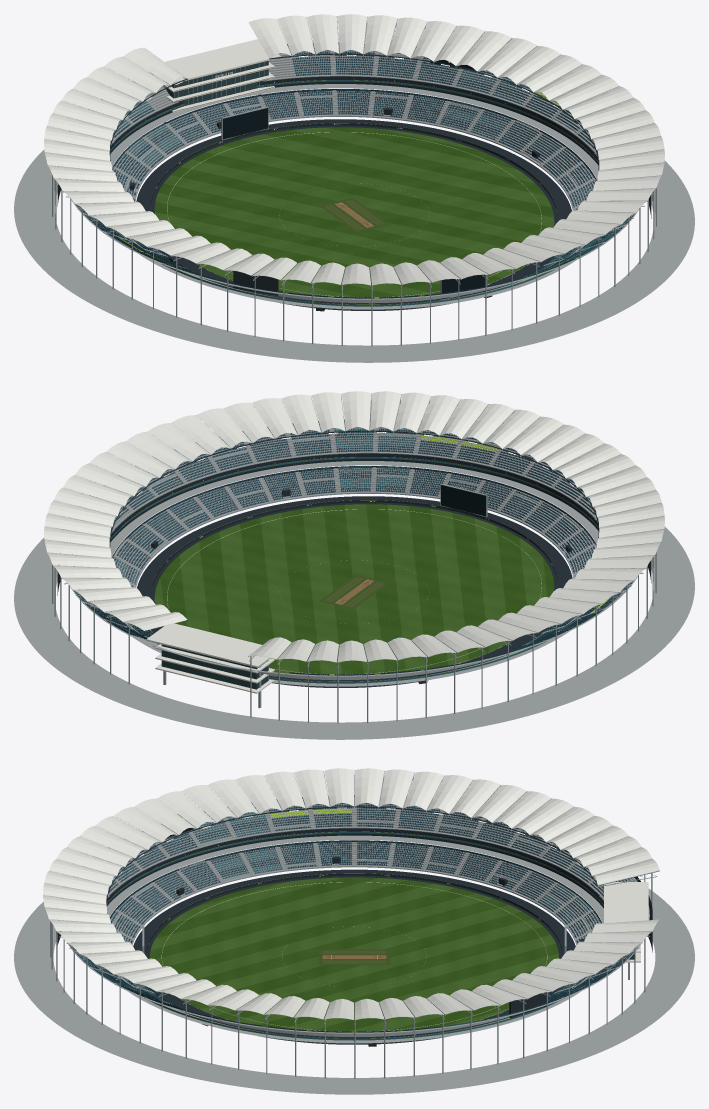
File: ant-oval-lite.glb
3 renders of one model, top to bottom at view 1: azimuth 30°, elevation 25°; view 2: azimuth 150°, elevation 25°; view 3: azimuth 270°, elevation 25°, orthographic. The views are drawn at different scales.
Parts seen in each view (by area): view 1: Lite | Canopy | pearl roof panels, Lite | Field | mown oval, Lite | Bowl | tier treads and risers, Lite | Site | perimeter plaza, Lite | Seats | navy, Lite | Boundary | service apron, Lite | Canopy | radial trusses and columns, Lite | Bowl | dark fascia and tunnel openings, Lite | Pavilion | floor slabs, Lite | Seats | blue, Lite | Canopy | underside panels, Lite | Bowl | inter-tier ribbon (+7 smaller); view 2: Lite | Canopy | pearl roof panels, Lite | Field | mown oval, Lite | Bowl | tier treads and risers, Lite | Site | perimeter plaza, Lite | Seats | navy, Lite | Boundary | service apron, Lite | Canopy | radial trusses and columns, Lite | Bowl | dark fascia and tunnel openings, Lite | Pavilion | floor slabs, Lite | Canopy | underside panels, Lite | Seats | blue, Lite | Bowl | inter-tier ribbon (+6 smaller); view 3: Lite | Canopy | pearl roof panels, Lite | Field | mown oval, Lite | Bowl | tier treads and risers, Lite | Site | perimeter plaza, Lite | Seats | navy, Lite | Boundary | service apron, Lite | Canopy | radial trusses and columns, Lite | Bowl | dark fascia and tunnel openings, Lite | Seats | blue, Lite | Bowl | inter-tier ribbon, Lite | Canopy | underside panels, Lite | Pavilion | floor slabs (+6 smaller).
Boxes of the visible parts, x1,y1,x2,y2 form: Lite | Canopy | pearl roof panels: [44, 14, 664, 285]; Lite | Field | mown oval: [154, 127, 554, 298]; Lite | Bowl | tier treads and risers: [65, 44, 638, 309]; Lite | Site | perimeter plaza: [14, 141, 694, 362]; Lite | Seats | navy: [62, 43, 634, 298]; Lite | Boundary | service apron: [136, 119, 571, 310]; Lite | Canopy | radial trusses and columns: [50, 16, 664, 346]; Lite | Bowl | dark fascia and tunnel openings: [110, 44, 598, 311]; Lite | Pavilion | floor slabs: [161, 39, 280, 112]; Lite | Seats | blue: [112, 69, 621, 291]; Lite | Canopy | underside panels: [44, 25, 661, 285]; Lite | Bowl | inter-tier ribbon: [110, 80, 598, 306]; Lite | Canopy | pearl roof panels: [44, 391, 664, 662]; Lite | Field | mown oval: [154, 504, 554, 675]; Lite | Bowl | tier treads and risers: [66, 421, 637, 686]; Lite | Site | perimeter plaza: [14, 526, 694, 739]; Lite | Seats | navy: [73, 420, 632, 675]; Lite | Boundary | service apron: [137, 496, 572, 687]; Lite | Canopy | radial trusses and columns: [47, 393, 664, 723]; Lite | Bowl | dark fascia and tunnel openings: [110, 421, 598, 683]; Lite | Pavilion | floor slabs: [146, 623, 274, 693]; Lite | Canopy | underside panels: [44, 402, 660, 662]; Lite | Seats | blue: [64, 422, 415, 675]; Lite | Bowl | inter-tier ribbon: [110, 457, 598, 683]; Lite | Canopy | pearl roof panels: [43, 768, 659, 1019]; Lite | Field | mown oval: [150, 877, 558, 1032]; Lite | Bowl | tier treads and risers: [63, 797, 649, 1043]; Lite | Site | perimeter plaza: [14, 889, 694, 1094]; Lite | Seats | navy: [63, 797, 633, 1032]; Lite | Boundary | service apron: [133, 869, 575, 1044]; Lite | Canopy | radial trusses and columns: [50, 770, 659, 1078]; Lite | Bowl | dark fascia and tunnel openings: [107, 795, 649, 1046]; Lite | Seats | blue: [75, 803, 631, 1026]; Lite | Bowl | inter-tier ribbon: [107, 831, 603, 1040]; Lite | Canopy | underside panels: [44, 777, 659, 1019]; Lite | Pavilion | floor slabs: [604, 882, 648, 962].
Bounding box in the file's own units: 246 × 26.99 × 258.
Materials: 24 (2 with a texture image).
